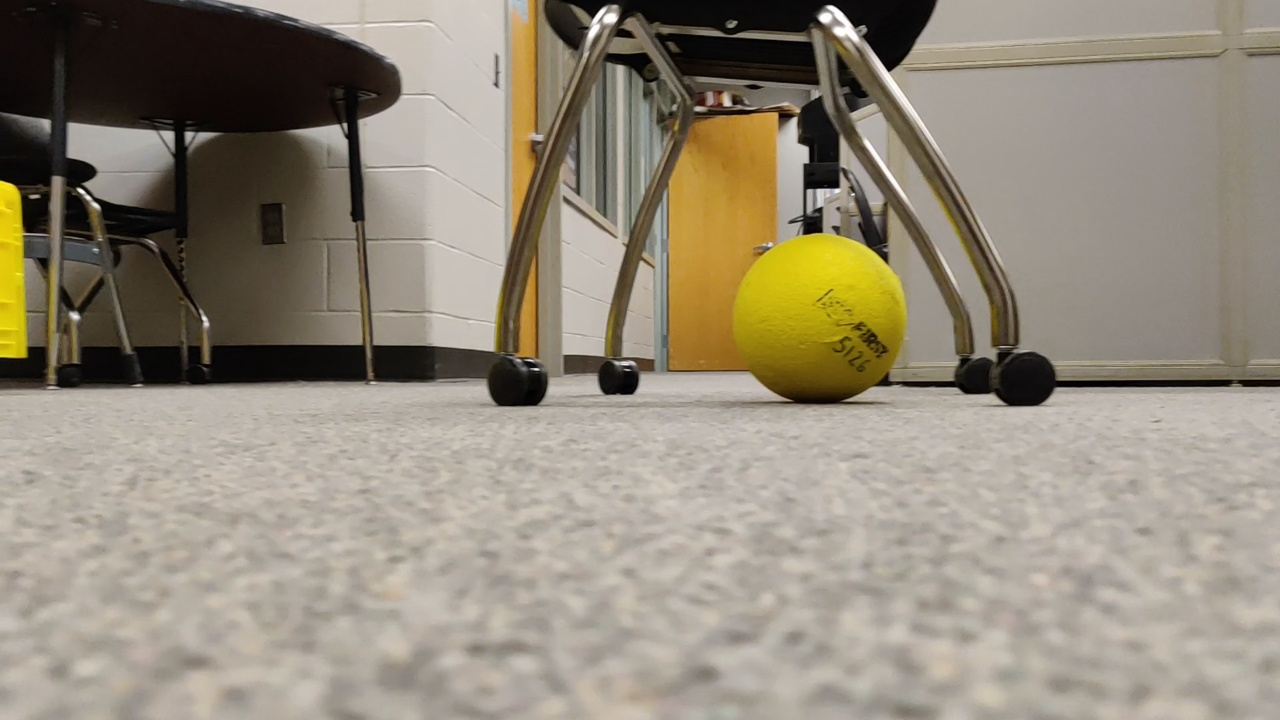Ball: (730, 233, 905, 404)
